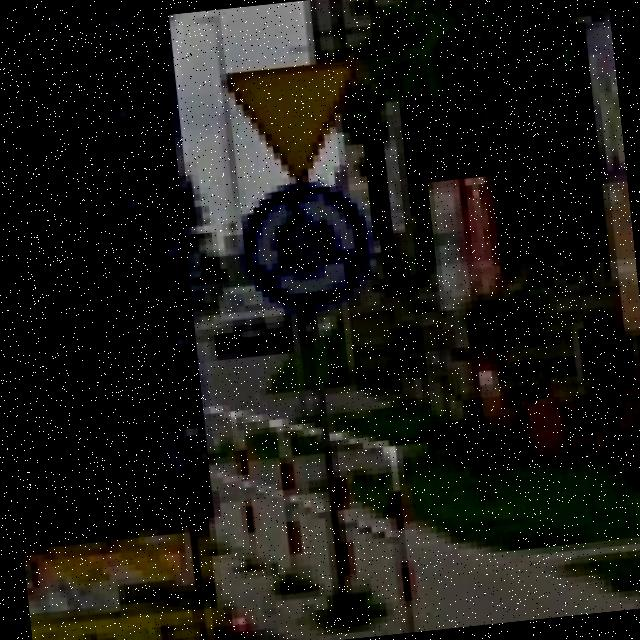Ustap pierwszenstwa: (220, 56, 374, 193)
